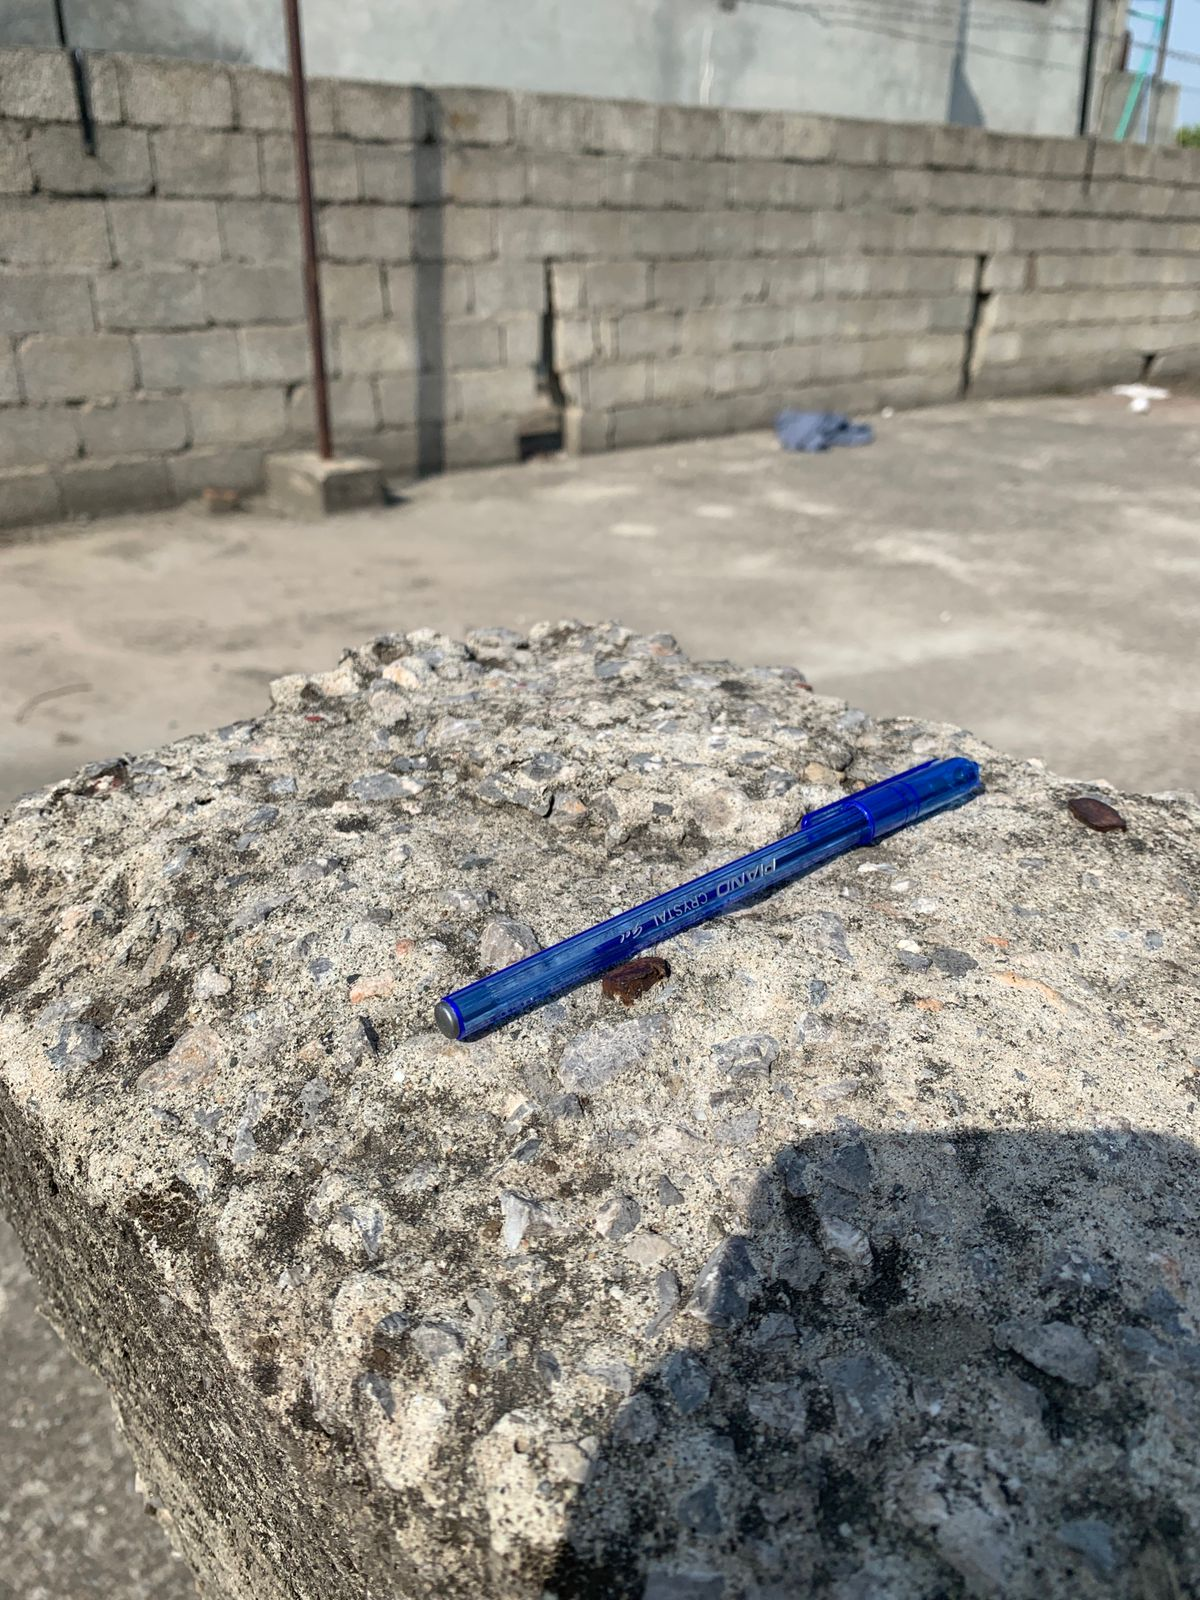pen: (402, 748, 1037, 1039)
